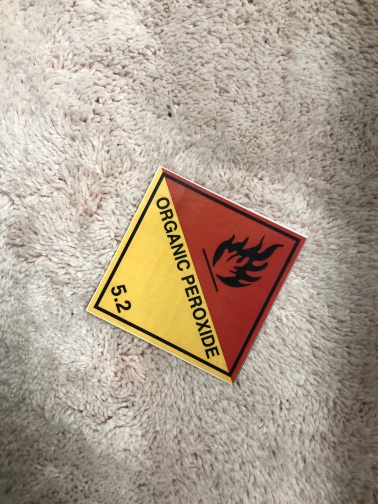OrganicPeroxide: (86, 165, 307, 386)
